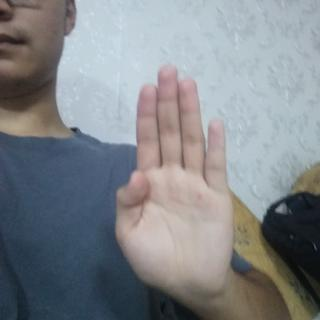SEEN: (111, 63, 245, 304)
